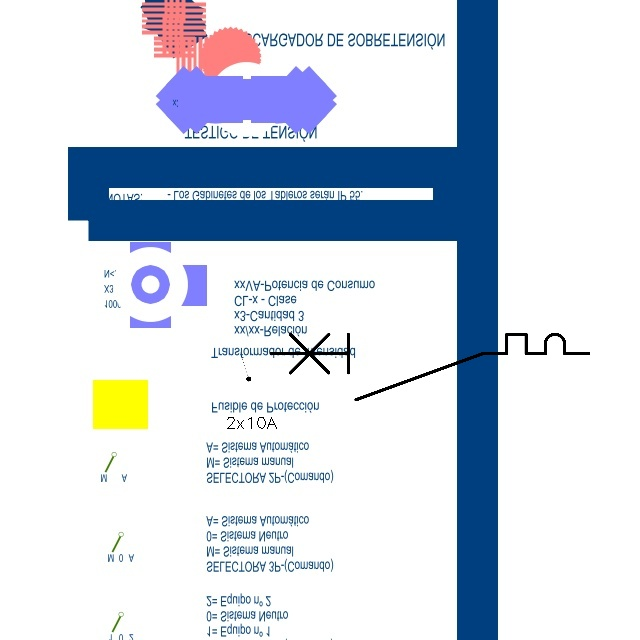interruptor_termomagnetico: (262, 326, 597, 408)
